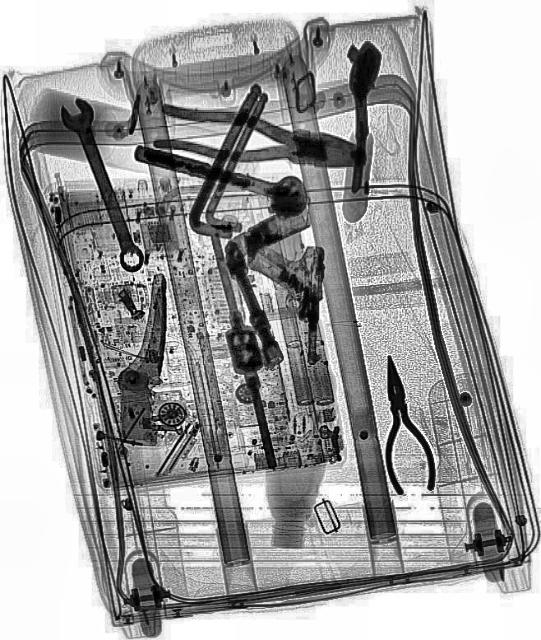Gun: (237, 237, 327, 366)
Pliers: (150, 95, 369, 185), (367, 349, 437, 496)
Wrench: (55, 92, 151, 278)
